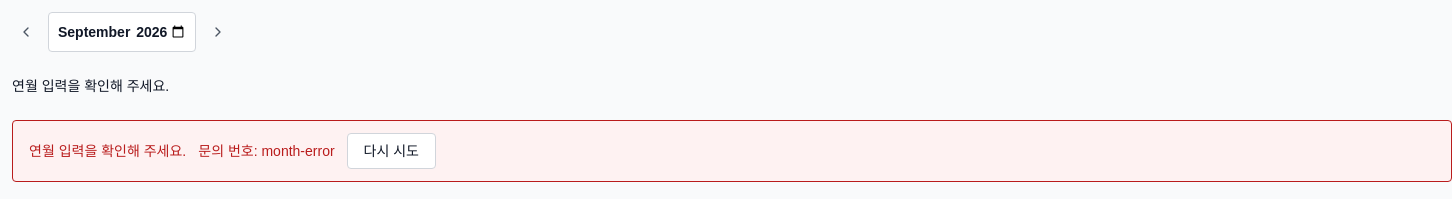
Test: 월 조회 from 오류는 선택 연월에 연결하고 성공 후 제거한다
The width and height of the screenshot is (1452, 199).
Expected: the message "연월 입력을 확인해 주세요. 문의 번호: month-error 다시 시도" is shown, x1=12 y1=120 x2=1451 y2=182
Expected: the field named "선택 연월" holds "2026-09", x1=48 y1=12 x2=196 y2=52
Click the button "다시 시도". click: (391, 151)
box: x1=347 y1=133 x2=436 y2=169
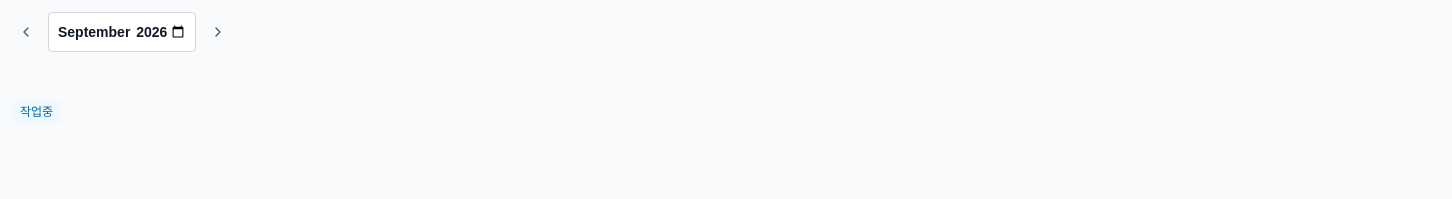
Result: the text "작업중" is shown at x1=12 y1=100 x2=61 y2=124
Result: the message "연월 입력을 확인해 주세요. 문의 번호: month-error 다시 시도" is gone
